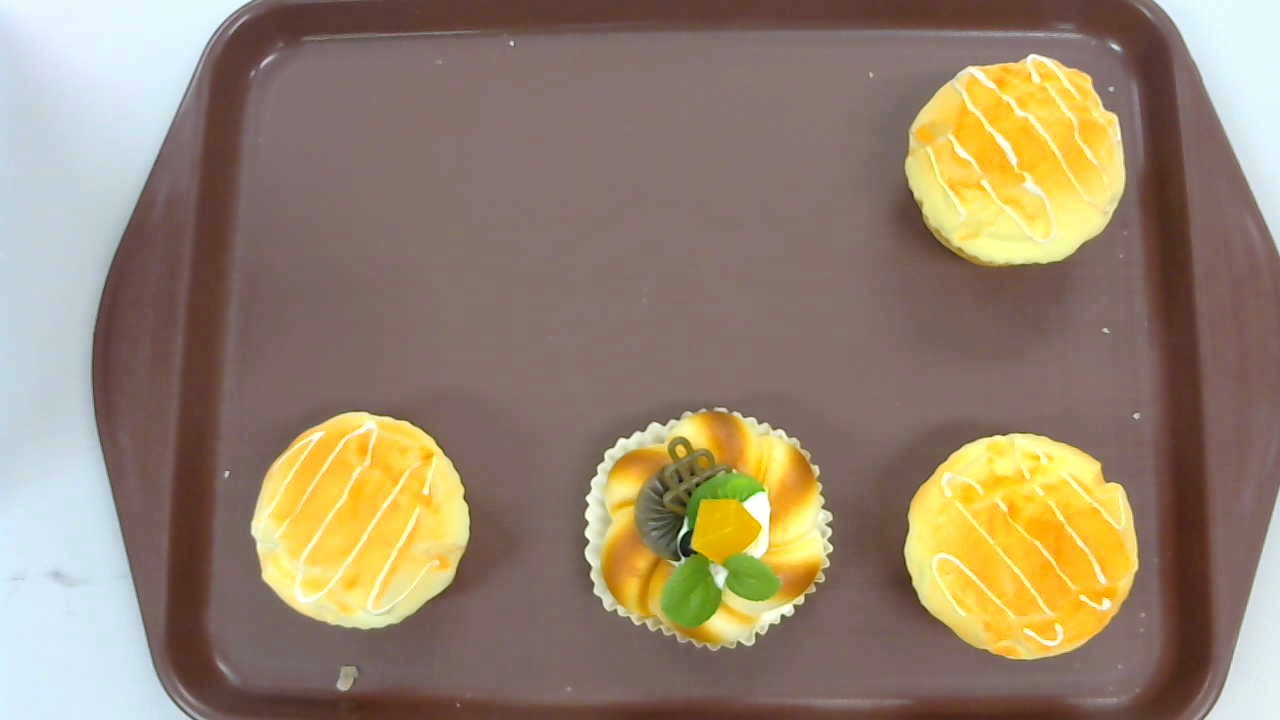cupcake: (903, 432, 1140, 662), (249, 409, 471, 628), (904, 53, 1127, 266)
fruit tart: (584, 406, 834, 653)
